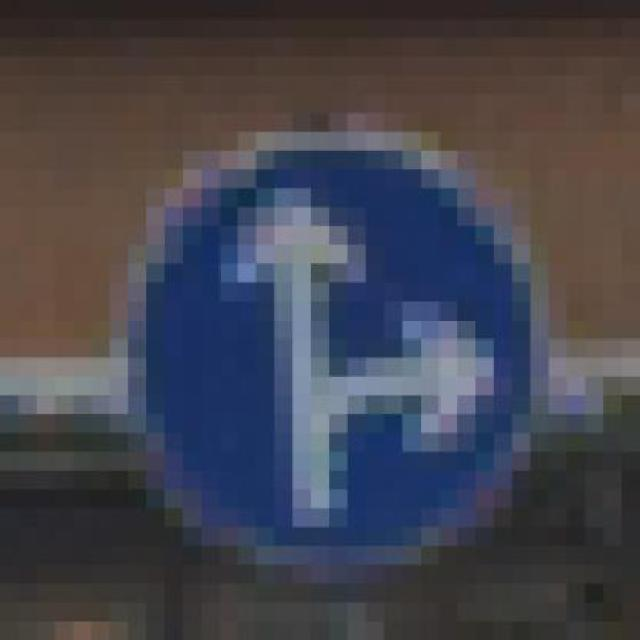Go Straight or Turn Right: (92, 94, 586, 603)
